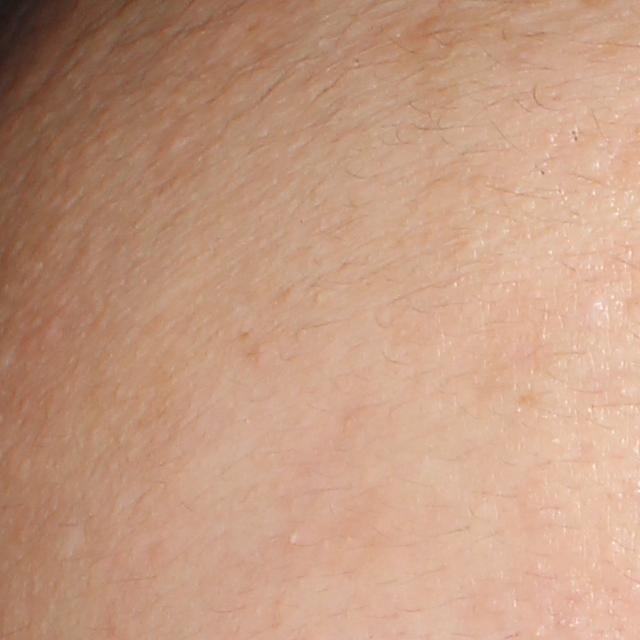comedo: (156, 130, 188, 154), (284, 531, 301, 548)
